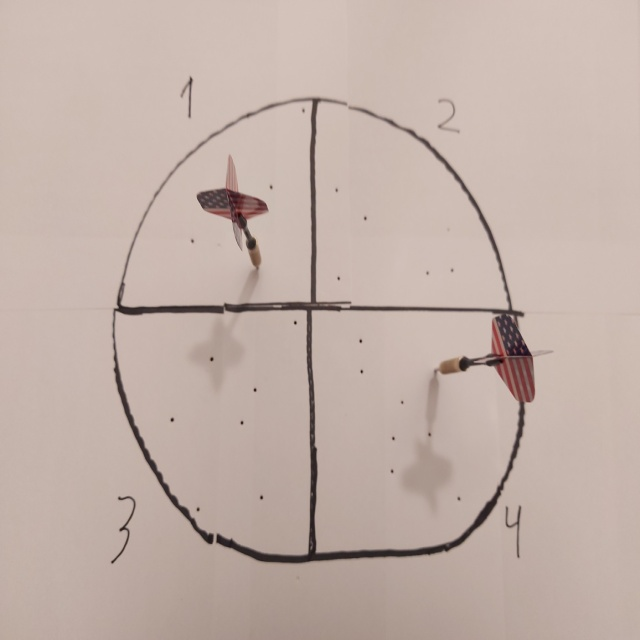Dart: (434, 310, 556, 410), (192, 151, 270, 276)
